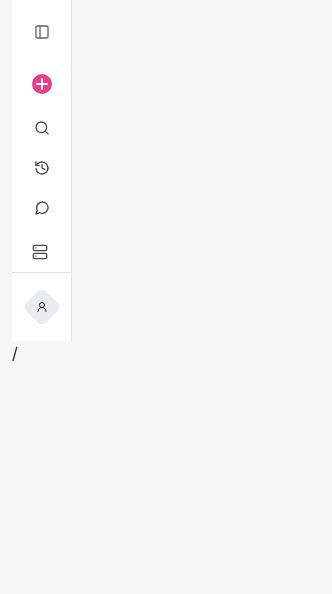
Test: Sidebar — System popover (collapsed rail) › selecting an entry navigates and closes the popover
This screenshot has width=332, height=594.
Click the button named "Sistema".
click(40, 252)  # box [20,232,60,272]
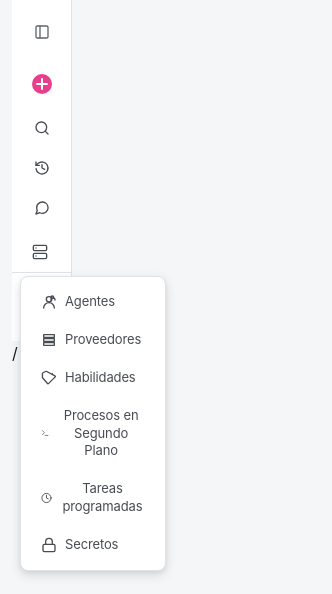
Click the button labelled "Proveedores".
click(93, 340)  # box [29,323,157,357]
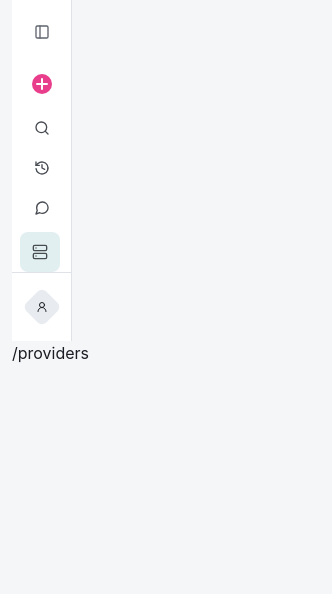
Result: the text with test id "location" reads "/providers" at [12,343,89,363]
